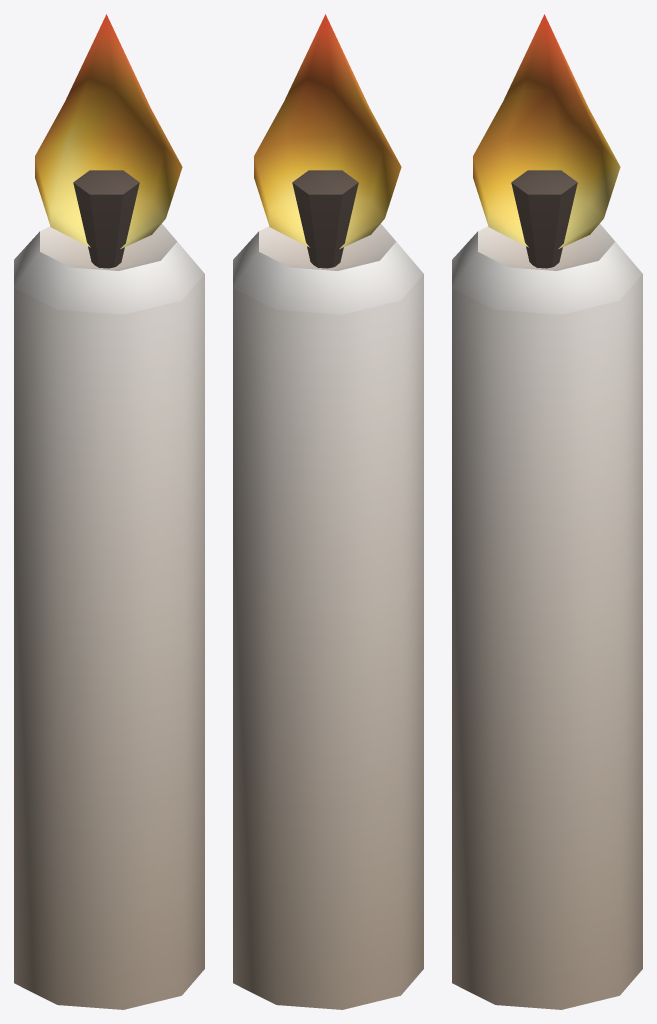
File: candle_thin_lit.gltf
3 renders of one model, left to right at view 1: azimuth 30°, elevation 25°; view 2: azimuth 150°, elevation 25°; view 3: azimuth 270°, elevation 25°, orthographic.
Visible parts, largest first — view 1: candle_thin_lit; view 2: candle_thin_lit; view 3: candle_thin_lit.
Boxes of the visible parts, x1,y1,x2,y2 form: candle_thin_lit: (14, 14, 204, 1009); candle_thin_lit: (233, 14, 423, 1009); candle_thin_lit: (452, 14, 642, 1009).
Size of the model in its own units: 0.1932 by 1.05 by 0.1903.
Materials: 1 (1 with a texture image).
